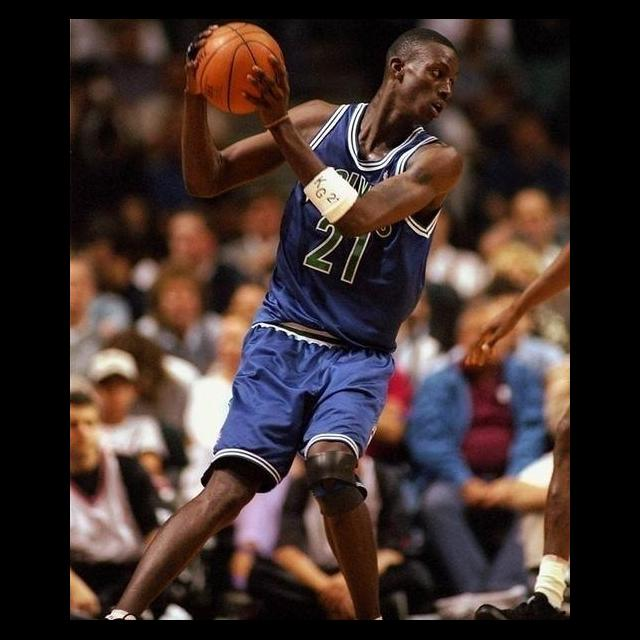basketball: (193, 21, 291, 114)
